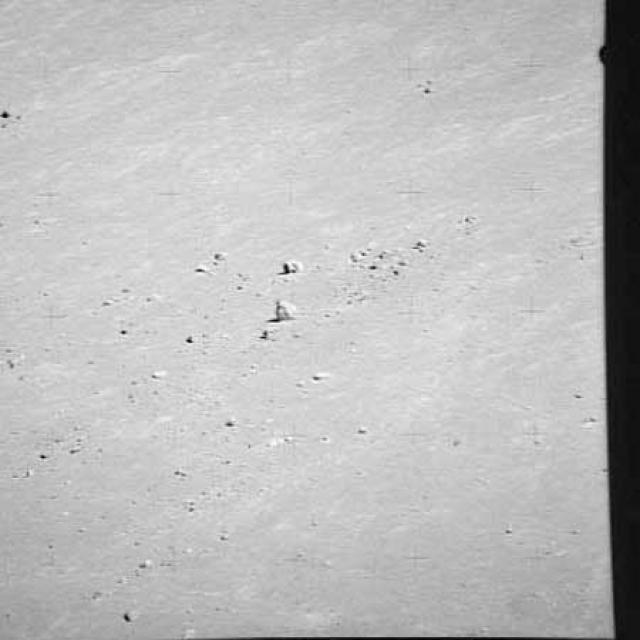rock: (274, 294, 304, 323), (280, 251, 308, 277), (255, 324, 280, 344)
